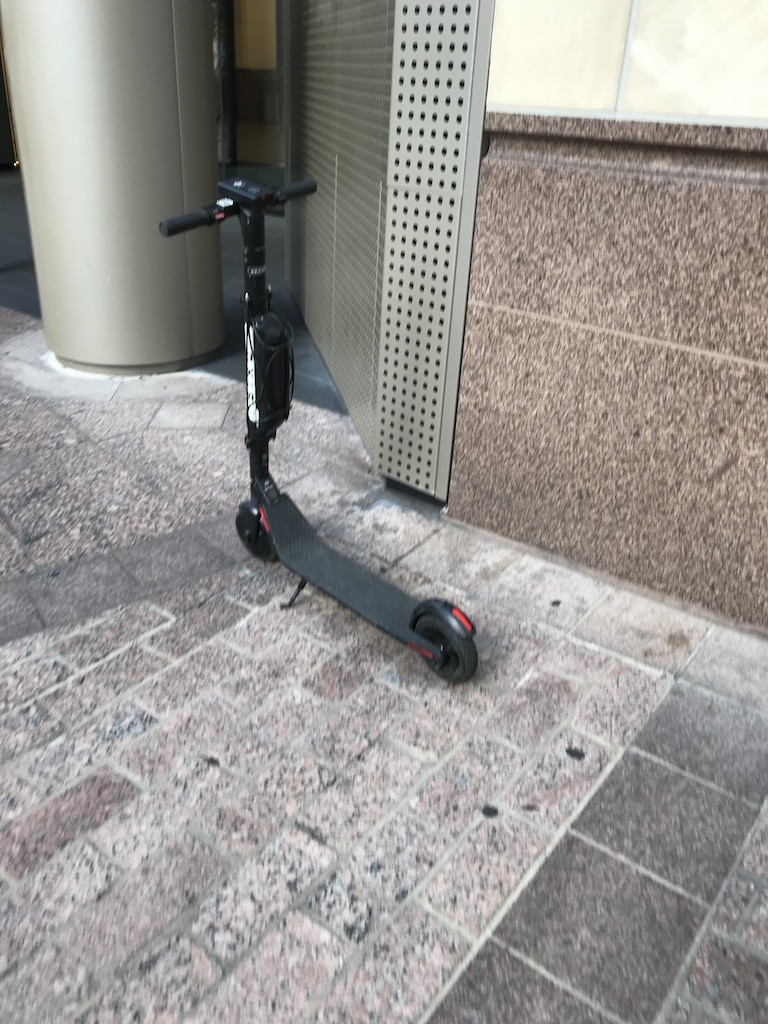scooter: (160, 176, 480, 689)
